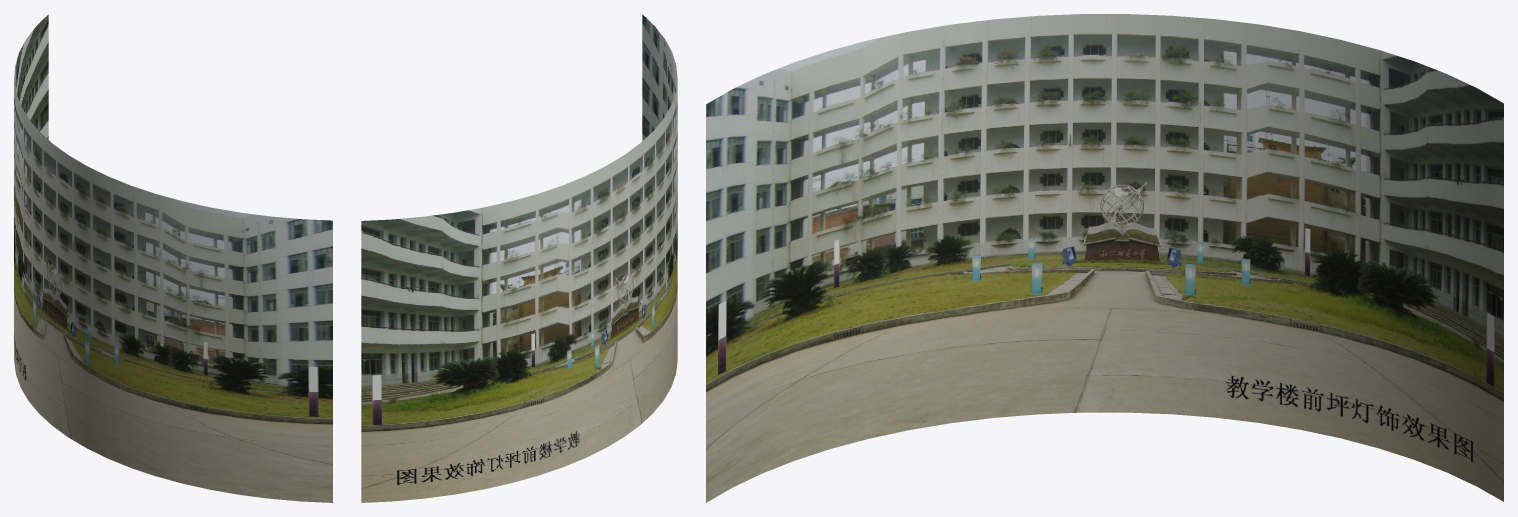
The model's file is chuang.FBX.
3 renders of one model, left to right at view 1: azimuth 30°, elevation 25°; view 2: azimuth 150°, elevation 25°; view 3: azimuth 270°, elevation 25°, orthographic. The views are drawn at different scales.
Parts seen in each view (by area): view 1: Arc001; view 2: Arc001; view 3: Arc001.
Boxes of the visible parts, box(x1,y1,x2,y2) form: Arc001: box(14, 14, 332, 502); Arc001: box(361, 14, 677, 502); Arc001: box(706, 14, 1503, 502).
Bounding box in the file's own units: 2793 × 5742 × 10418.
1 material, 1 textured.
